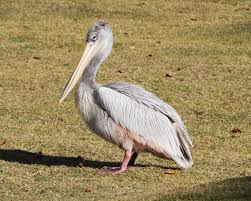pelican: (61, 21, 194, 176)
